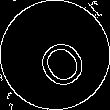O_NW: (23, 22, 87, 88)
